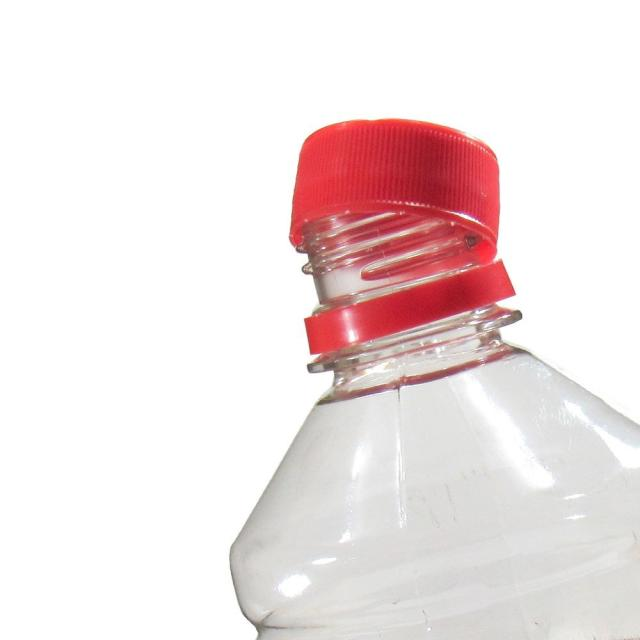cap: (285, 116, 547, 378)
